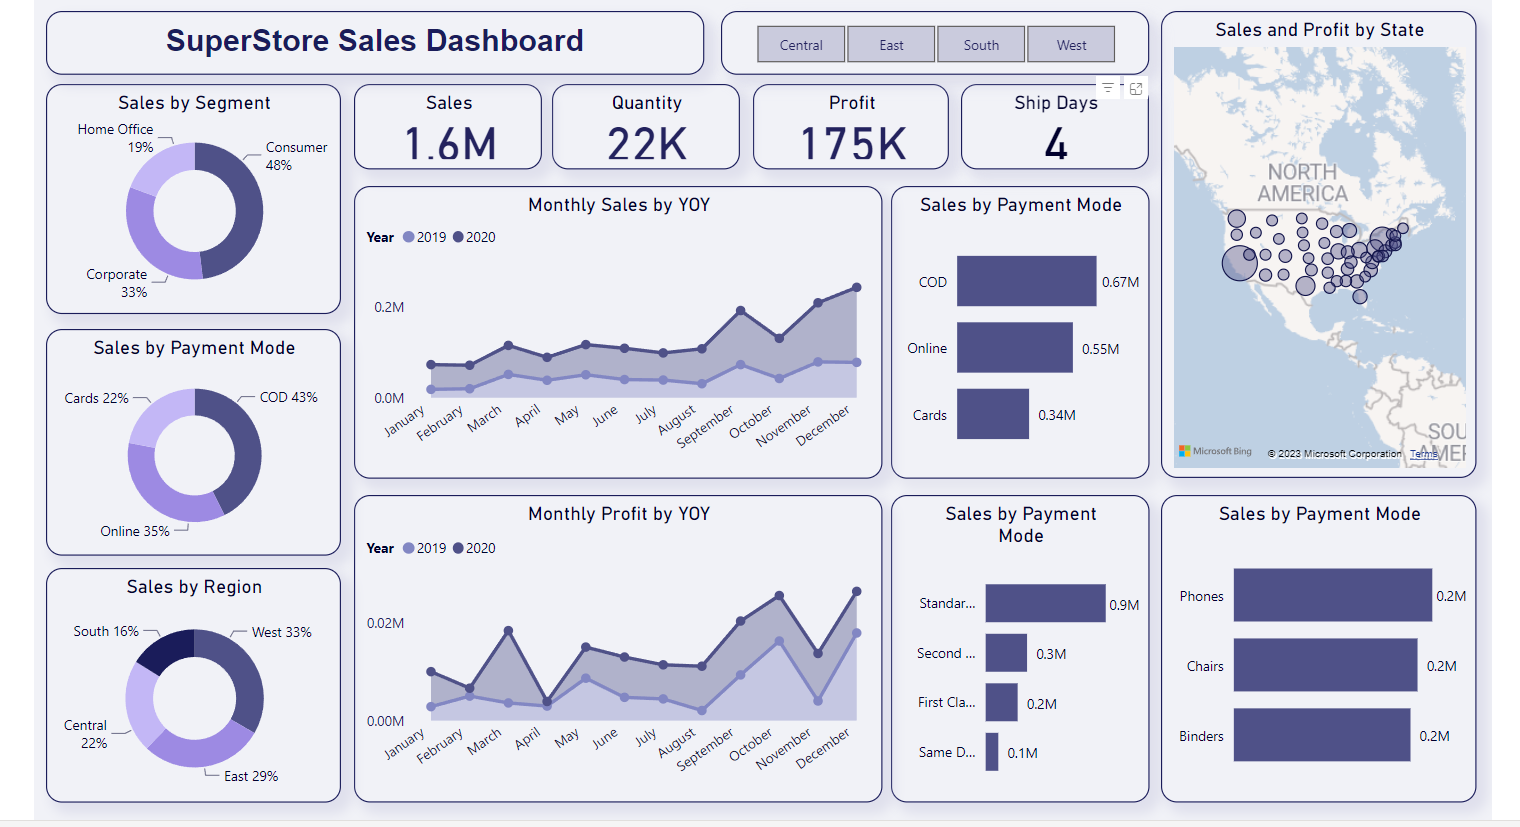

This screenshot's page, from the dashboard's own definition file:
{"tool":"powerbi","page":{"name":"Page 1","canvas":[1280,720],"ordinal":0},"visuals":[{"type":"clusteredBarChart","title":" Sales by Payment Mode","fields":{"Y":["Sum(SuperStore_Sales_Dataset.Sales)"],"Category":["SuperStore_Sales_Dataset.Payment Mode"]},"box":[752.8,163.4,226.6,256.8],"z":0},{"type":"clusteredBarChart","title":" Sales by Payment Mode","fields":{"Y":["Sum(SuperStore_Sales_Dataset.Sales)"],"Category":["SuperStore_Sales_Dataset.Ship Mode"]},"box":[752.8,434.8,226.6,270.4],"z":1000},{"type":"clusteredBarChart","title":" Sales by Payment Mode","fields":{"Y":["Sum(SuperStore_Sales_Dataset.Sales)"],"Category":["SuperStore_Sales_Dataset.Sub-Category"]},"box":[989.2,434.8,277.2,270.4],"z":2000},{"type":"stackedAreaChart","title":"Monthly Sales by YOY","fields":{"Y":["Sum(SuperStore_Sales_Dataset.Sales)"],"Category":["SuperStore_Sales_Dataset.Order Date.Variation.Date Hierarchy.Month"],"Series":["SuperStore_Sales_Dataset.Order Date.Variation.Date Hierarchy.Year"]},"box":[281.1,163.4,464,256.8],"z":3000},{"type":"stackedAreaChart","title":"Monthly Profit by YOY","fields":{"Category":["SuperStore_Sales_Dataset.Order Date.Variation.Date Hierarchy.Month"],"Series":["SuperStore_Sales_Dataset.Order Date.Variation.Date Hierarchy.Year"],"Y":["Sum(SuperStore_Sales_Dataset.Profit)"]},"box":[281.1,434.8,464,270.4],"z":4000},{"type":"donutChart","title":"Sales by Segment","fields":{"Y":["Sum(SuperStore_Sales_Dataset.Sales)"],"Category":["SuperStore_Sales_Dataset.Segment"]},"box":[10.7,73.9,258.7,202.3],"z":5000},{"type":"donutChart","title":"Sales by Payment Mode","fields":{"Y":["Sum(SuperStore_Sales_Dataset.Sales)"],"Category":["SuperStore_Sales_Dataset.Payment Mode"]},"box":[10.7,288.9,258.7,199.4],"z":6000},{"type":"donutChart","title":"Sales by Region","fields":{"Y":["Sum(SuperStore_Sales_Dataset.Sales)"],"Category":["SuperStore_Sales_Dataset.Region"]},"box":[10.7,499,258.7,206.2],"z":7000},{"type":"card","title":"Profit","fields":{"Values":["Sum(SuperStore_Sales_Dataset.Profit)"]},"box":[631.2,73.9,172.2,74.9],"z":8000},{"type":"map","title":"Sales and Profit by State","fields":{"Size":["Sum(SuperStore_Sales_Dataset.Sales)"],"Category":["SuperStore_Sales_Dataset.State"]},"box":[989.2,9.7,277.2,410.5],"z":9000},{"type":"card","title":"Quantity","fields":{"Values":["Sum(SuperStore_Sales_Dataset.Quantity)"]},"box":[455.2,73.9,165.3,74.9],"z":10000},{"type":"card","title":"Sales","fields":{"Values":["Sum(SuperStore_Sales_Dataset.Sales)"]},"box":[281.1,73.9,165.3,74.9],"z":11000},{"type":"card","title":"Ship Days","fields":{"Values":["Avg(SuperStore_Sales_Dataset.AvgDelivery)"]},"box":[814.1,73.9,165.3,74.9],"z":12000},{"type":"textbox","box":[10.7,9.7,577.8,56.4],"z":13000},{"type":"slicer","fields":{"Values":["SuperStore_Sales_Dataset.Region"]},"box":[603,9.7,376.4,56.4],"z":14000}]}

Visuals, with their boxes in screenshot pixels (x1, y1, x2, y2):
" Sales by Payment Mode" clusteredBarChart: bbox=(889, 181, 1145, 472)
" Sales by Payment Mode" clusteredBarChart: bbox=(889, 489, 1145, 795)
" Sales by Payment Mode" clusteredBarChart: bbox=(1157, 489, 1471, 795)
"Monthly Sales by YOY" stackedAreaChart: bbox=(354, 181, 880, 472)
"Monthly Profit by YOY" stackedAreaChart: bbox=(354, 489, 880, 795)
"Sales by Segment" donutChart: bbox=(48, 80, 341, 309)
"Sales by Payment Mode" donutChart: bbox=(48, 323, 341, 549)
"Sales by Region" donutChart: bbox=(48, 561, 341, 795)
"Profit" card: bbox=(751, 80, 946, 165)
"Sales and Profit by State" map: bbox=(1157, 7, 1471, 472)
"Quantity" card: bbox=(551, 80, 739, 165)
"Sales" card: bbox=(354, 80, 541, 165)
"Ship Days" card: bbox=(958, 80, 1145, 165)
textbox: bbox=(48, 7, 702, 71)
slicer - SuperStore_Sales_Dataset.Region: bbox=(719, 7, 1145, 71)
